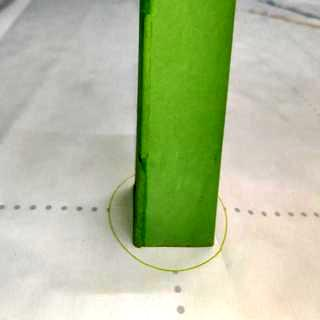greenbox: (138, 1, 236, 250)
